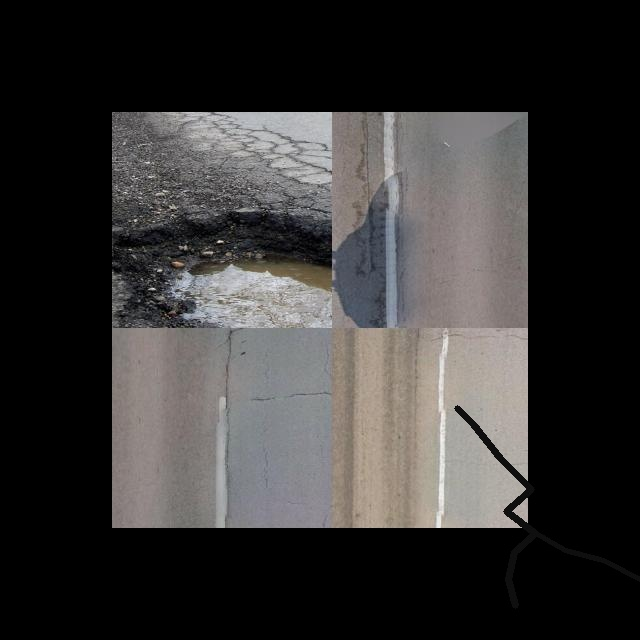road_crack: (447, 398, 545, 615)
